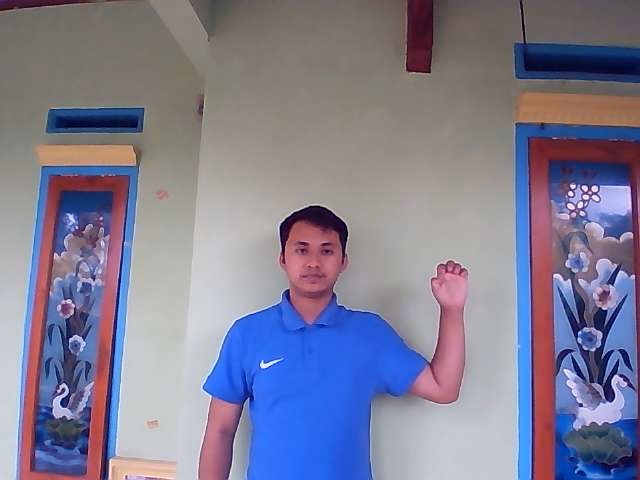E: (430, 260, 471, 307)
